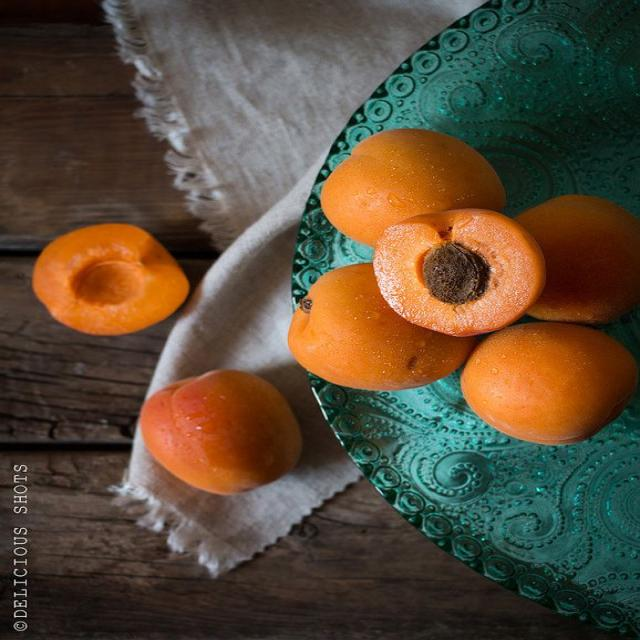kayisi: (288, 261, 484, 394), (458, 321, 640, 448), (319, 129, 507, 250), (373, 210, 544, 338), (140, 370, 303, 498), (32, 223, 190, 338), (516, 194, 640, 330)
kayisicekirdegi: (427, 245, 487, 304)
